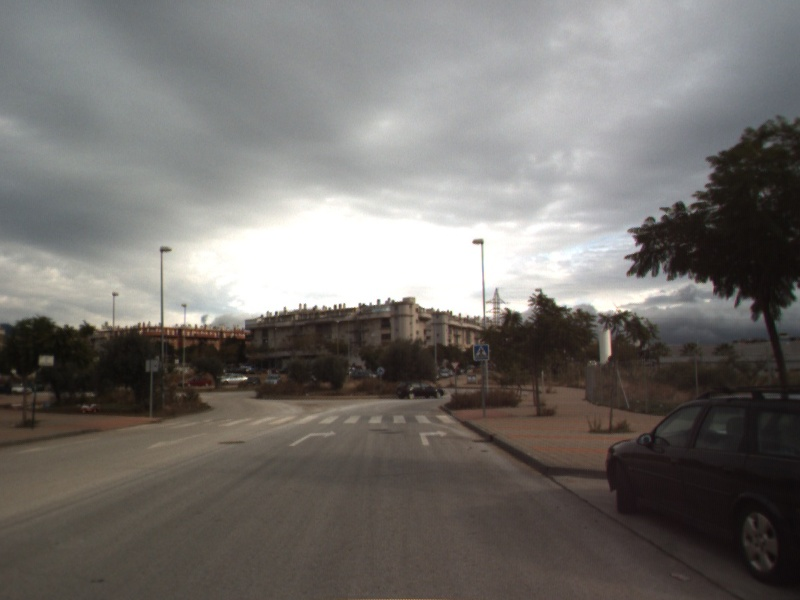RIGHT: (287, 428, 338, 448), (417, 427, 450, 447)
